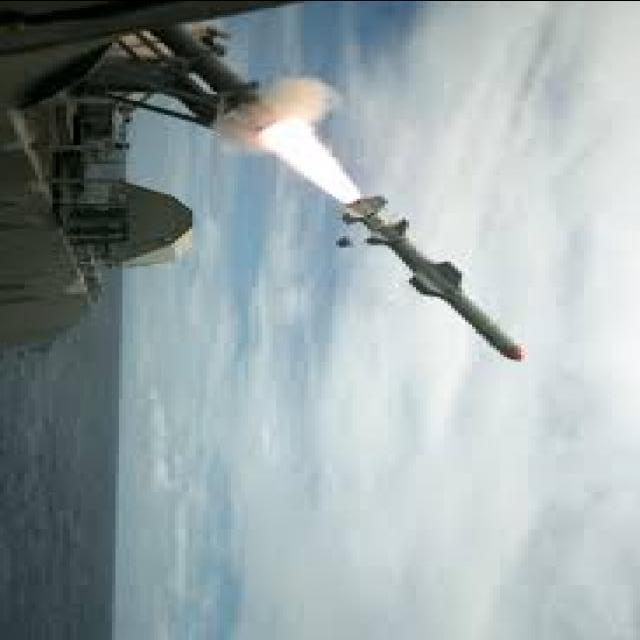missile: (342, 187, 528, 365)
